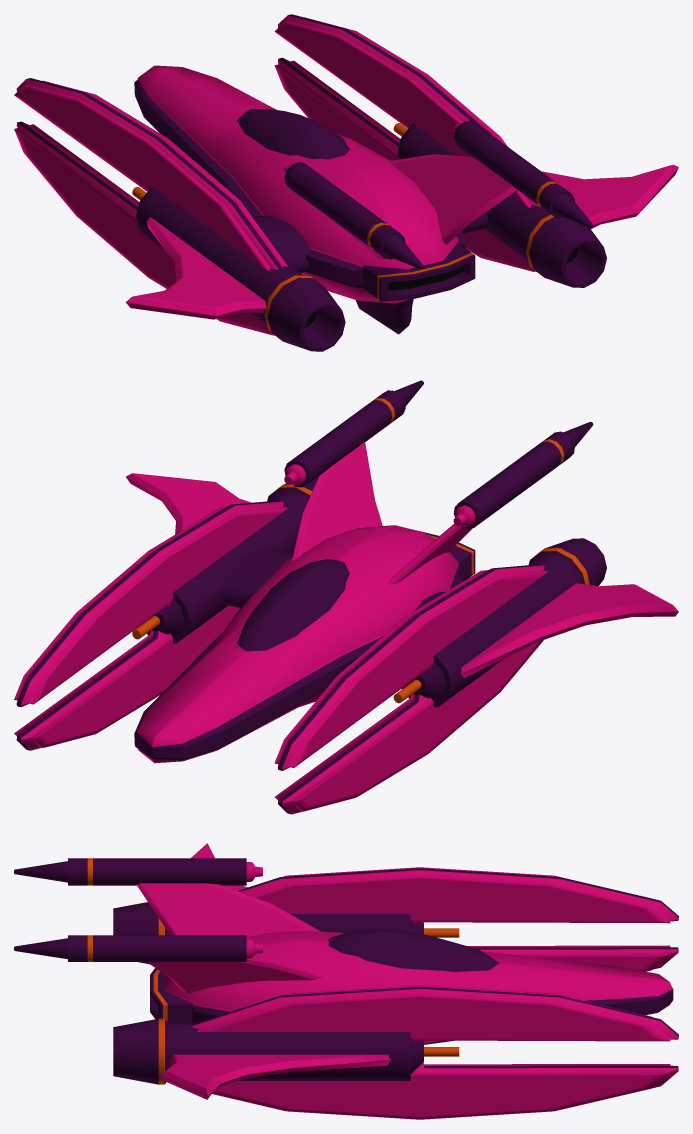
Rendered from AlienStarfighter10.obj.
3 renders of one model, top to bottom at view 1: azimuth 30°, elevation 25°; view 2: azimuth 150°, elevation 25°; view 3: azimuth 270°, elevation 25°, orthographic. The views are drawn at different scales.
Visible parts, largest first — view 1: Cylinder.003_Cylinder.005, Sphere_Sphere.002, Cylinder.001_Cylinder.006, Cube.002_Cube.003, Cylinder.005_Cylinder.011, Cube.003_Cube.004, Sphere.001_Sphere.003, Cylinder, Cylinder.006_Cylinder.007; view 2: Cylinder.003_Cylinder.005, Sphere_Sphere.002, Cylinder.001_Cylinder.006, Cube.002_Cube.003, Cylinder.005_Cylinder.011, Cube.003_Cube.004, Sphere.001_Sphere.003, Cylinder; view 3: Cylinder.003_Cylinder.005, Sphere_Sphere.002, Cylinder.001_Cylinder.006, Cylinder.005_Cylinder.011, Cube.003_Cube.004, Cube.002_Cube.003, Sphere.001_Sphere.003.
Boxes of the visible parts, x1=… form: Cylinder.003_Cylinder.005: x1=14, y1=14, x2=539, y2=335; Sphere_Sphere.002: x1=134, y1=65, x2=475, y2=303; Cylinder.001_Cylinder.006: x1=132, y1=123, x2=606, y2=351; Cube.002_Cube.003: x1=125, y1=164, x2=678, y2=319; Cylinder.005_Cylinder.011: x1=284, y1=121, x2=593, y2=269; Cube.003_Cube.004: x1=327, y1=154, x2=517, y2=259; Sphere.001_Sphere.003: x1=237, y1=109, x2=349, y2=159; Cylinder: x1=253, y1=212, x2=488, y2=273; Cylinder.006_Cylinder.007: x1=355, y1=298, x2=413, y2=334; Cylinder.003_Cylinder.005: x1=14, y1=500, x2=548, y2=814; Sphere_Sphere.002: x1=134, y1=525, x2=475, y2=763; Cylinder.001_Cylinder.006: x1=132, y1=476, x2=606, y2=707; Cube.002_Cube.003: x1=126, y1=473, x2=678, y2=678; Cylinder.005_Cylinder.011: x1=284, y1=380, x2=593, y2=528; Cube.003_Cube.004: x1=291, y1=442, x2=472, y2=585; Sphere.001_Sphere.003: x1=237, y1=558, x2=349, y2=651; Cylinder: x1=224, y1=549, x2=445, y2=610; Cylinder.003_Cylinder.005: x1=191, y1=867, x2=678, y2=1119; Sphere_Sphere.002: x1=150, y1=931, x2=673, y2=1043; Cylinder.001_Cylinder.006: x1=113, y1=902, x2=459, y2=1084; Cylinder.005_Cylinder.011: x1=14, y1=858, x2=262, y2=961; Cube.003_Cube.004: x1=137, y1=883, x2=323, y2=993; Cube.002_Cube.003: x1=160, y1=843, x2=391, y2=1099; Sphere.001_Sphere.003: x1=328, y1=929, x2=499, y2=971.
Size of the model in its own units: 6.8 by 2.15 by 7.61.
